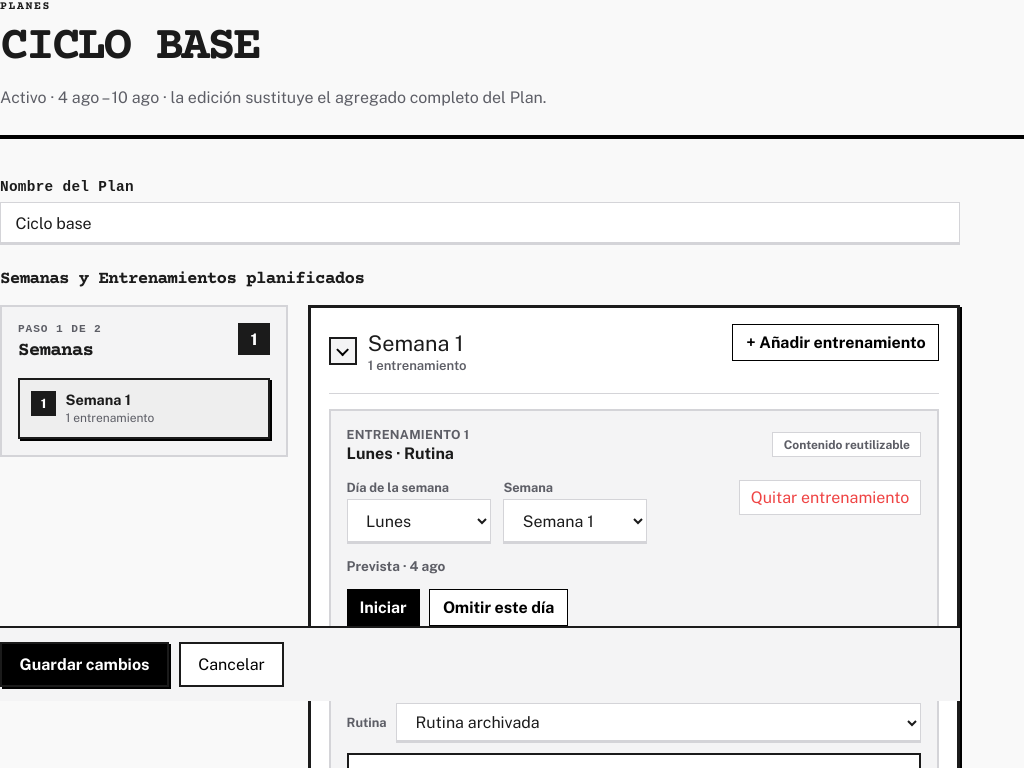
Test: gestionar un Plan activo › omite con confirmación, devuelve a pendiente y completa con confirmación
This screenshot has width=1024, height=768.
Click the button "Omitir este día".
click(499, 607)  # box [429,589,568,626]
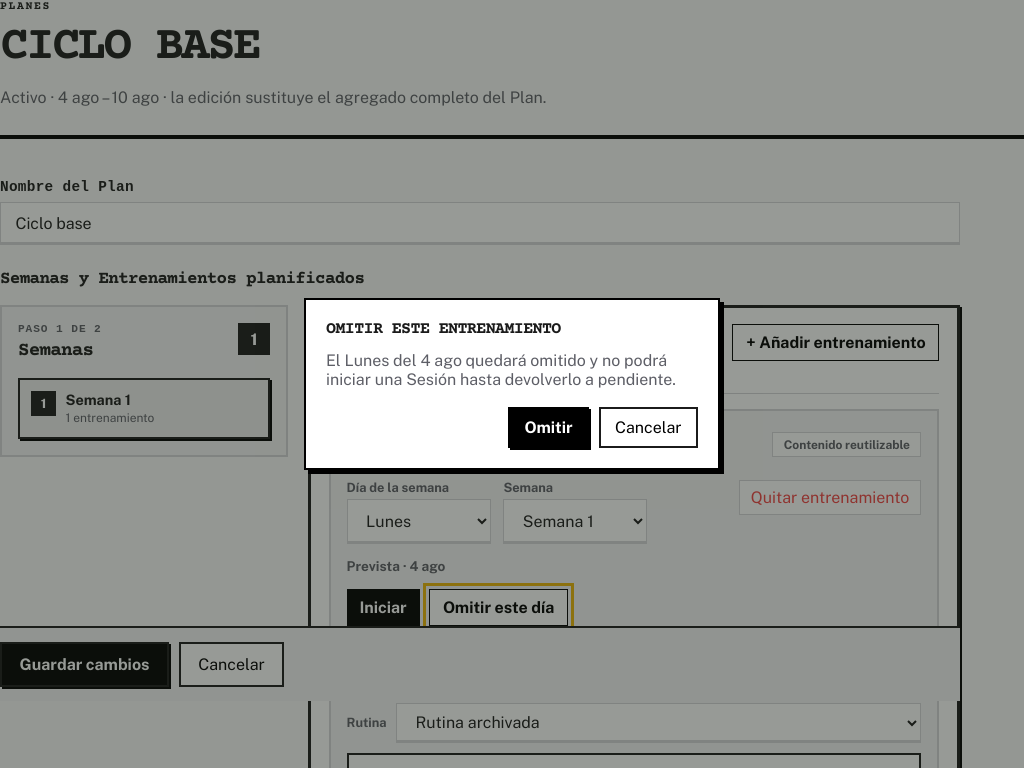
Check: the text "Lunes" is shown, box [326,351,676,389]
Click the button "Omitir".
click(549, 428)  # box [508,407,589,448]
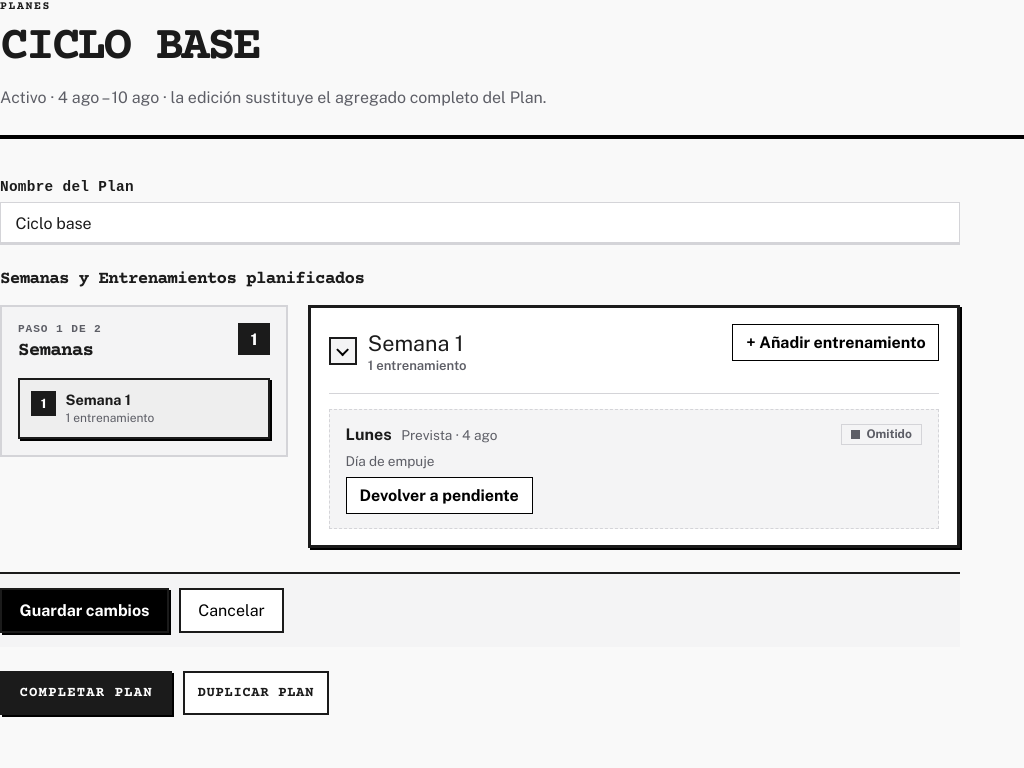
Check: the text "Prevista · 4 ago" is shown, box [401,427,497,443]
Check: the element named "Lunes omitido" is shown, box [329,408,939,529]
Check: the button "Omitir este día" is gone
// devolver a pendiente es directo y restaura la edición
Click the button "Devolver a pendiente".
click(439, 495)  # box [346,477,533,514]
(page scrolled)
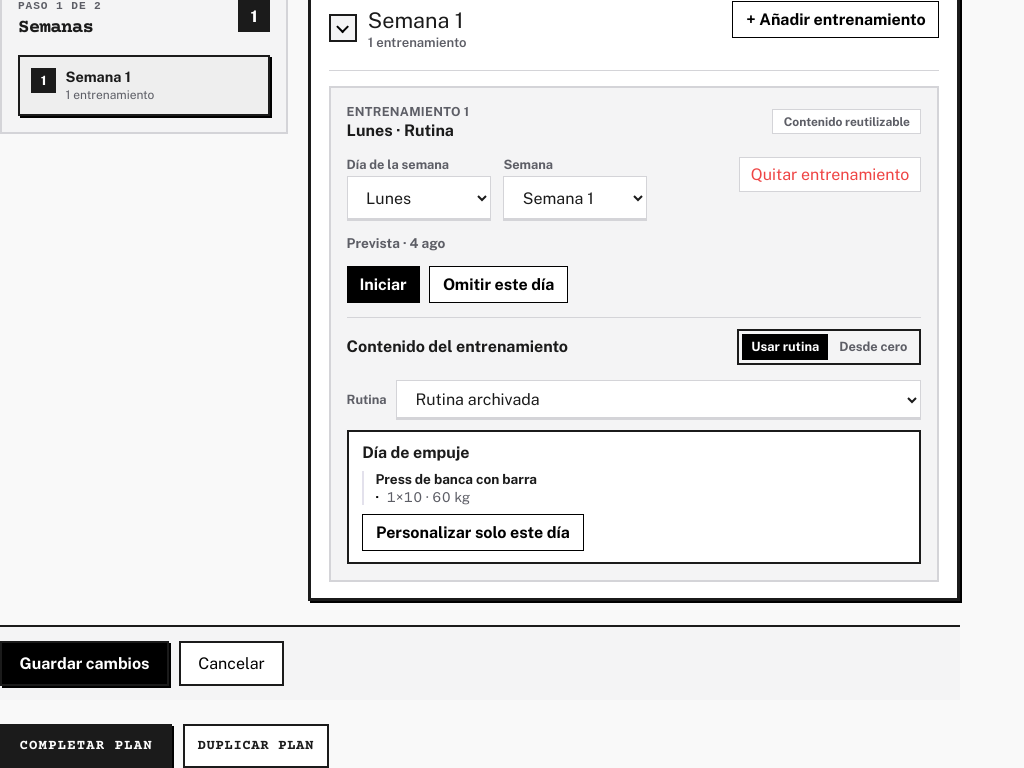
Check: the button "Omitir este día" is shown, box [429,266,568,303]
// completar exige confirmación y cierra el calendario
Click the button "Completar Plan".
click(86, 746)  # box [0,724,172,767]
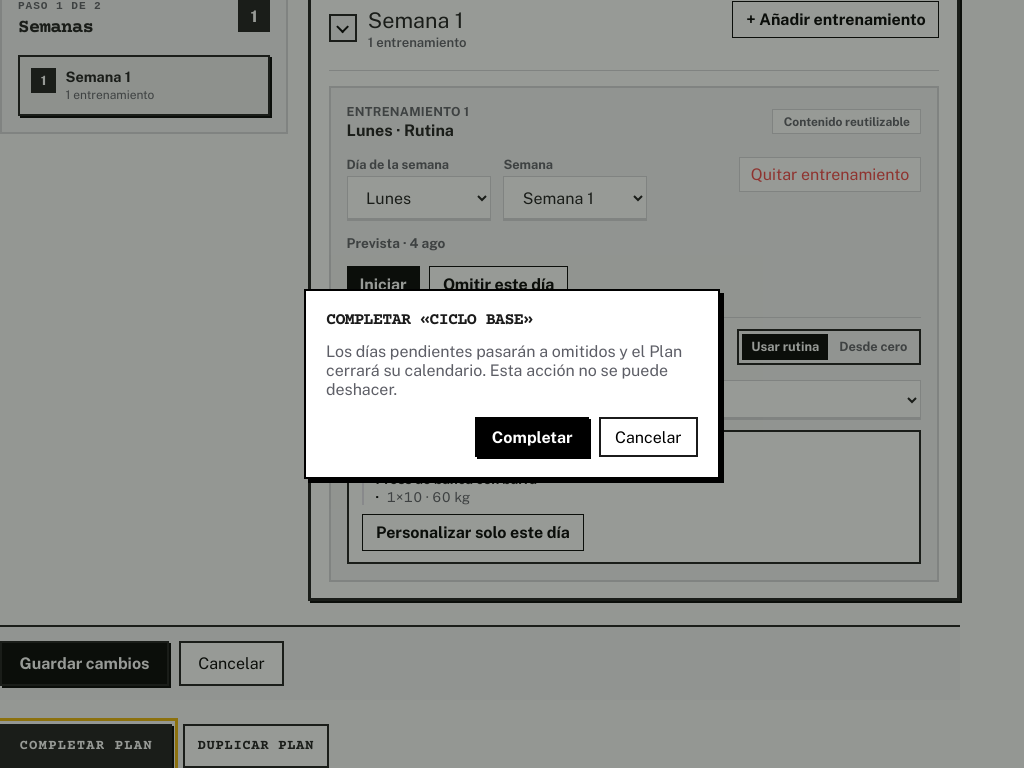
Click the button "Completar".
click(532, 437)  # box [476,417,589,458]
(page scrolled)
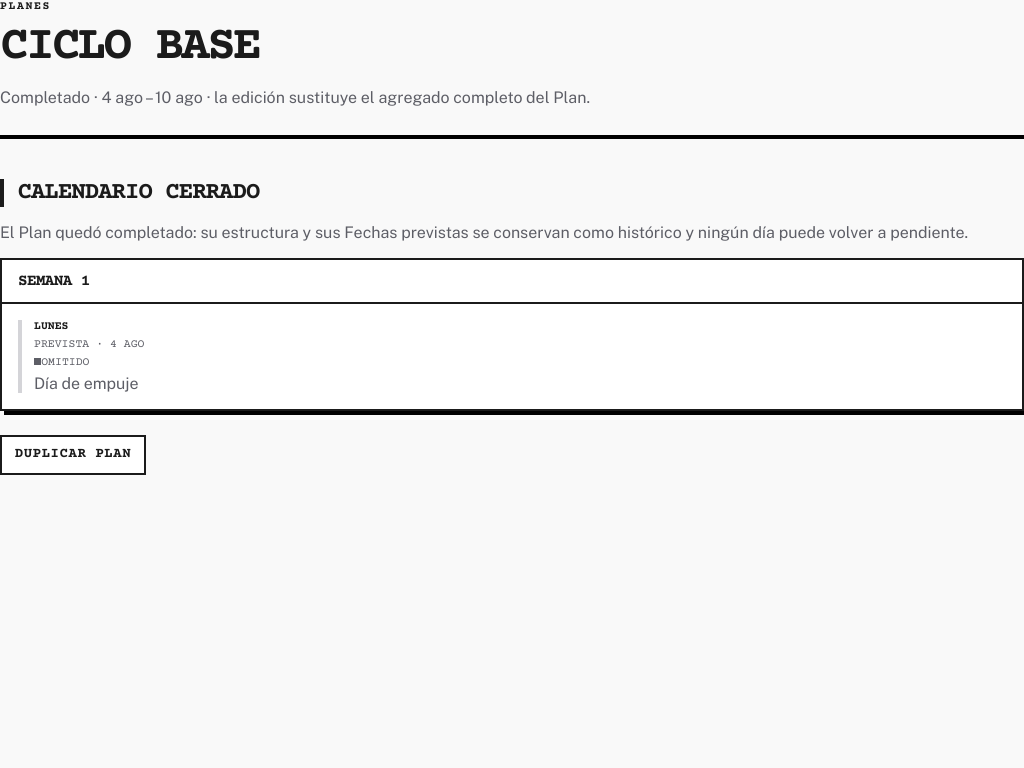
Check: the heading "Calendario cerrado" is shown, box [0,179,1023,207]
Check: the button "Omitir este día" is gone
Check: the button "Completar Plan" is gone
